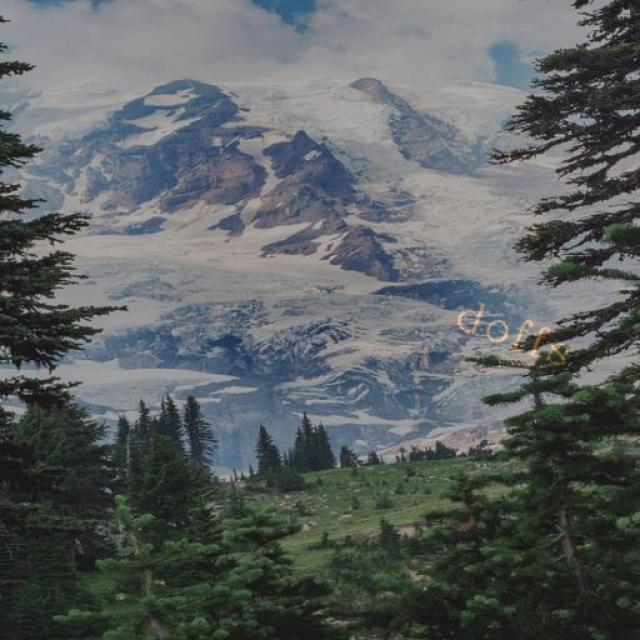watermark: (441, 293, 596, 375)
